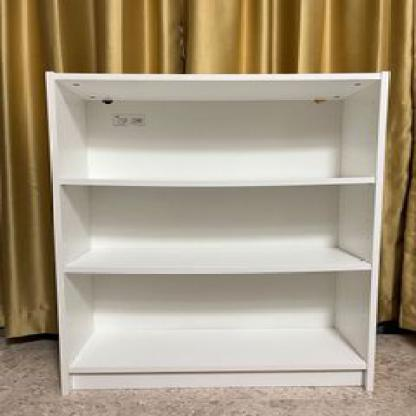lamp: (46, 70, 390, 399)
